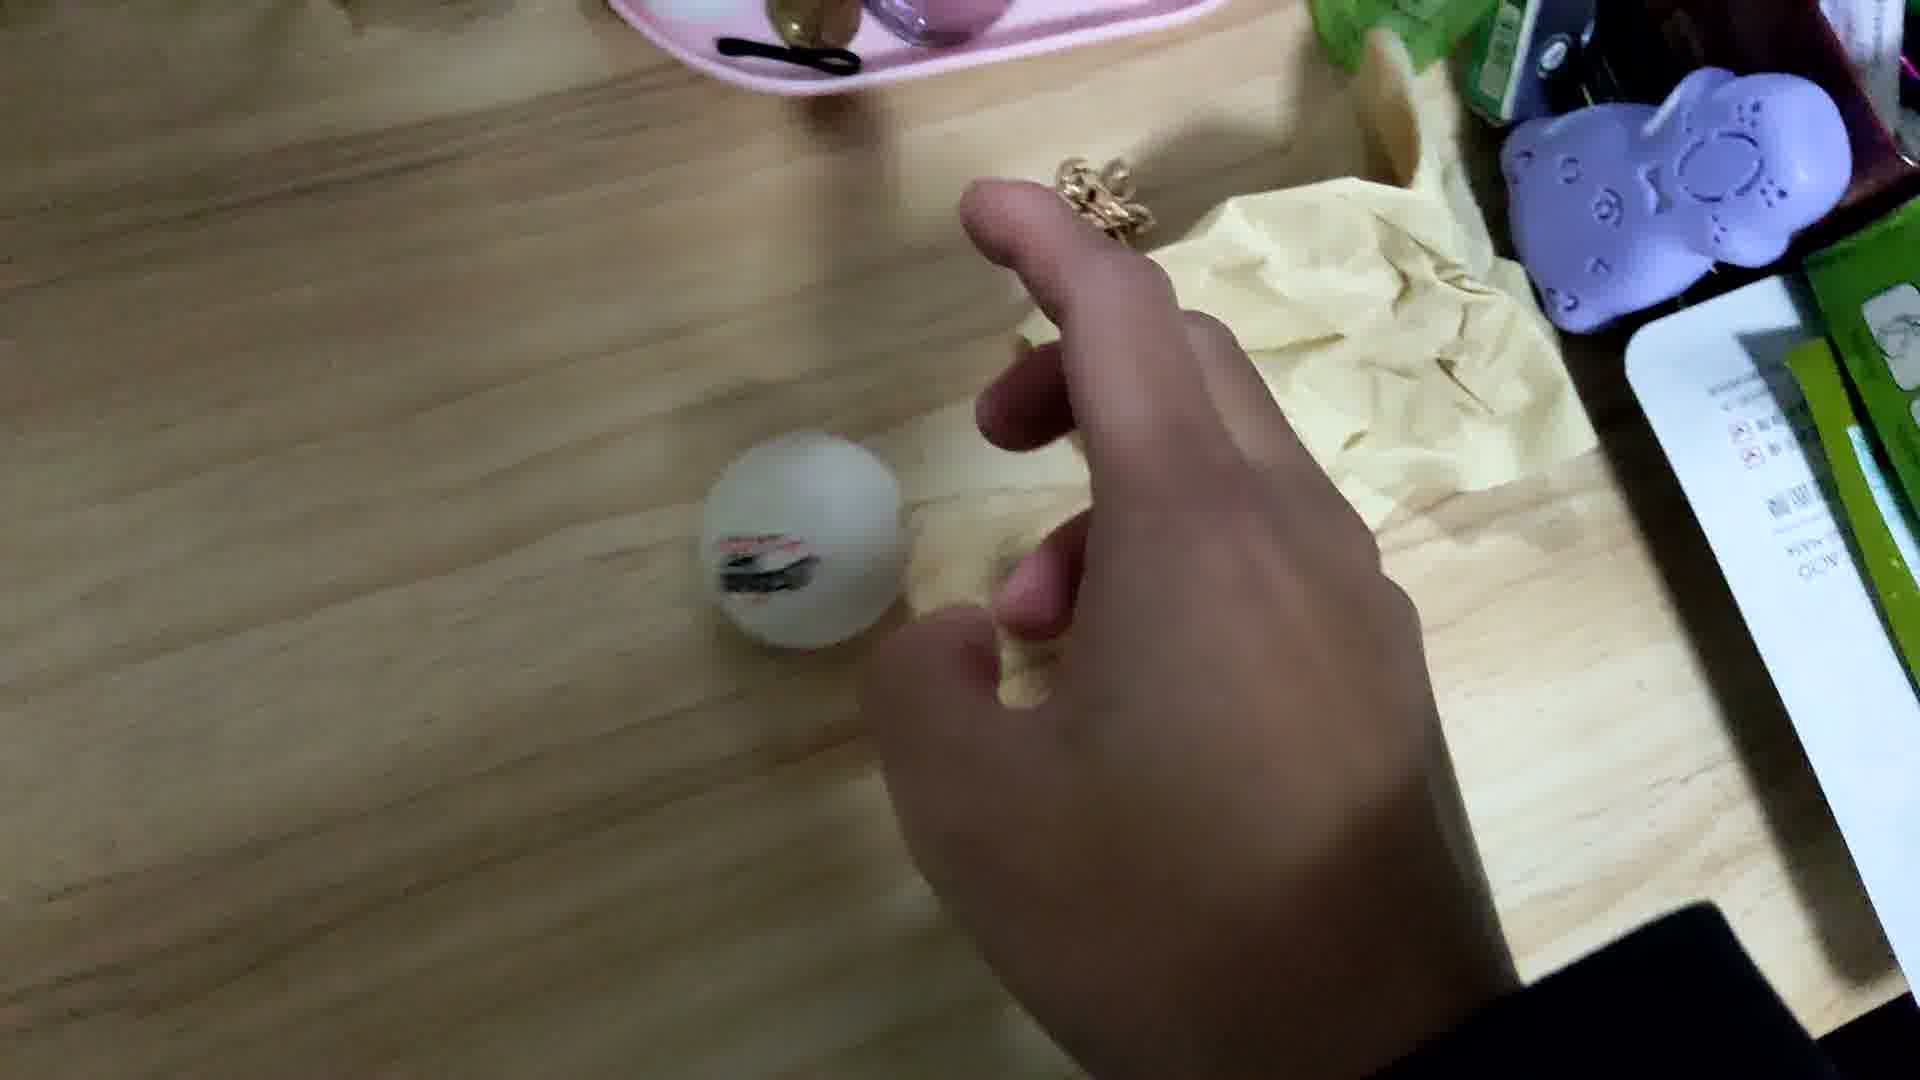Ball: (694, 427, 914, 645)
